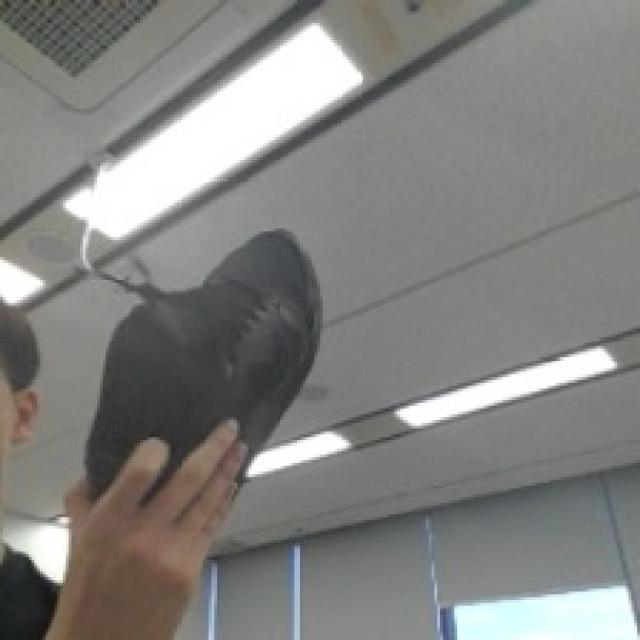shoe: (82, 229, 322, 553)
